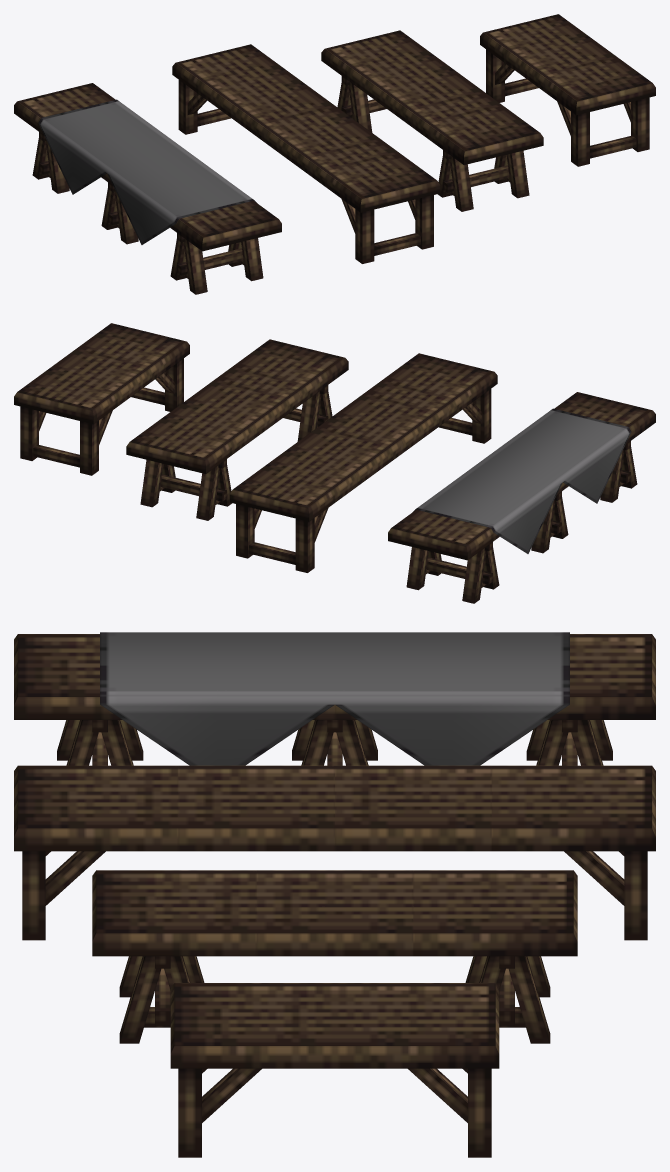
Rendered from EnvObjMD_Table_Kitchen_A_200A.FBX.
3 views of the same model, one above another, from view 1: azimuth 30°, elevation 25°; view 2: azimuth 150°, elevation 25°; view 3: azimuth 270°, elevation 25° (orthographic). The views are drawn at different scales.
Visible parts, largest first — view 1: EnvObjMD_Table_Kitchen_B_400A, EnvObjMD_Table_Kitchen_A_400A, EnvObjMD_Table_Kitchen_B_300A, EnvObjMD_Table_Kitchen_A_200A; view 2: EnvObjMD_Table_Kitchen_B_400A, EnvObjMD_Table_Kitchen_A_400A, EnvObjMD_Table_Kitchen_B_300A, EnvObjMD_Table_Kitchen_A_200A; view 3: EnvObjMD_Table_Kitchen_B_400A, EnvObjMD_Table_Kitchen_A_400A, EnvObjMD_Table_Kitchen_B_300A, EnvObjMD_Table_Kitchen_A_200A.
Part boxes in pixels (<box>): EnvObjMD_Table_Kitchen_B_400A: <box>14,83,281,294</box>; EnvObjMD_Table_Kitchen_A_400A: <box>172,44,440,263</box>; EnvObjMD_Table_Kitchen_B_300A: <box>321,30,543,211</box>; EnvObjMD_Table_Kitchen_A_200A: <box>480,14,655,166</box>; EnvObjMD_Table_Kitchen_B_400A: <box>388,392,655,603</box>; EnvObjMD_Table_Kitchen_A_400A: <box>229,353,497,572</box>; EnvObjMD_Table_Kitchen_B_300A: <box>126,339,348,520</box>; EnvObjMD_Table_Kitchen_A_200A: <box>14,323,189,475</box>; EnvObjMD_Table_Kitchen_B_400A: <box>14,632,655,765</box>; EnvObjMD_Table_Kitchen_A_400A: <box>14,765,655,940</box>; EnvObjMD_Table_Kitchen_B_300A: <box>92,870,577,1043</box>; EnvObjMD_Table_Kitchen_A_200A: <box>170,983,499,1157</box>.
Size of the model in its own units: 629 by 81.25 by 410.
